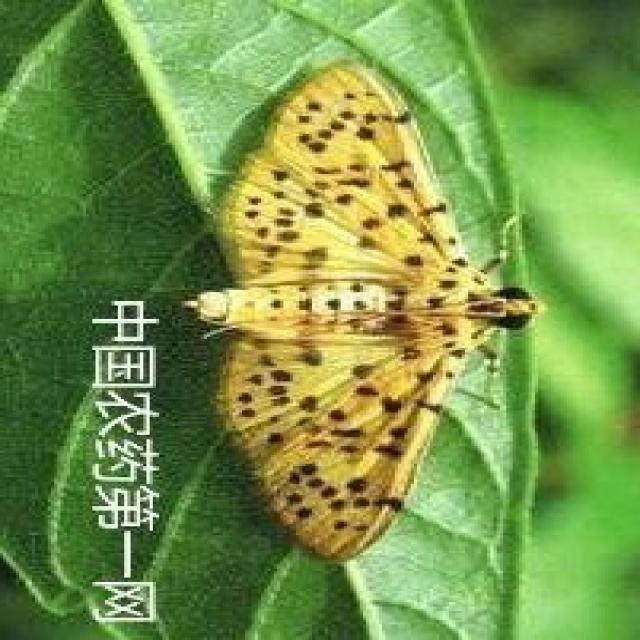peach borer: (179, 56, 549, 571)
